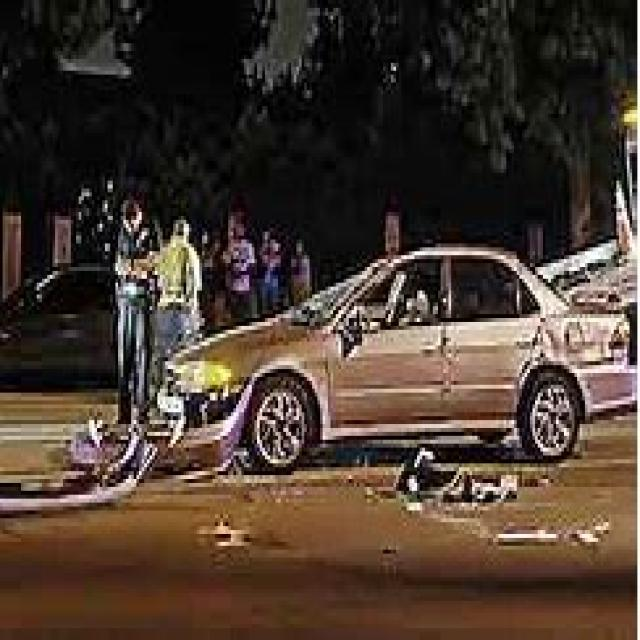Accident: (39, 157, 640, 569)
